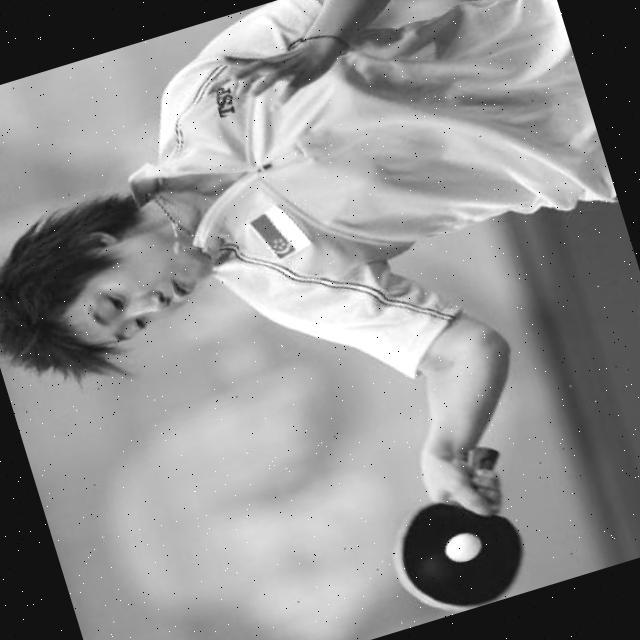ping-pong-ball: (436, 524, 488, 568)
